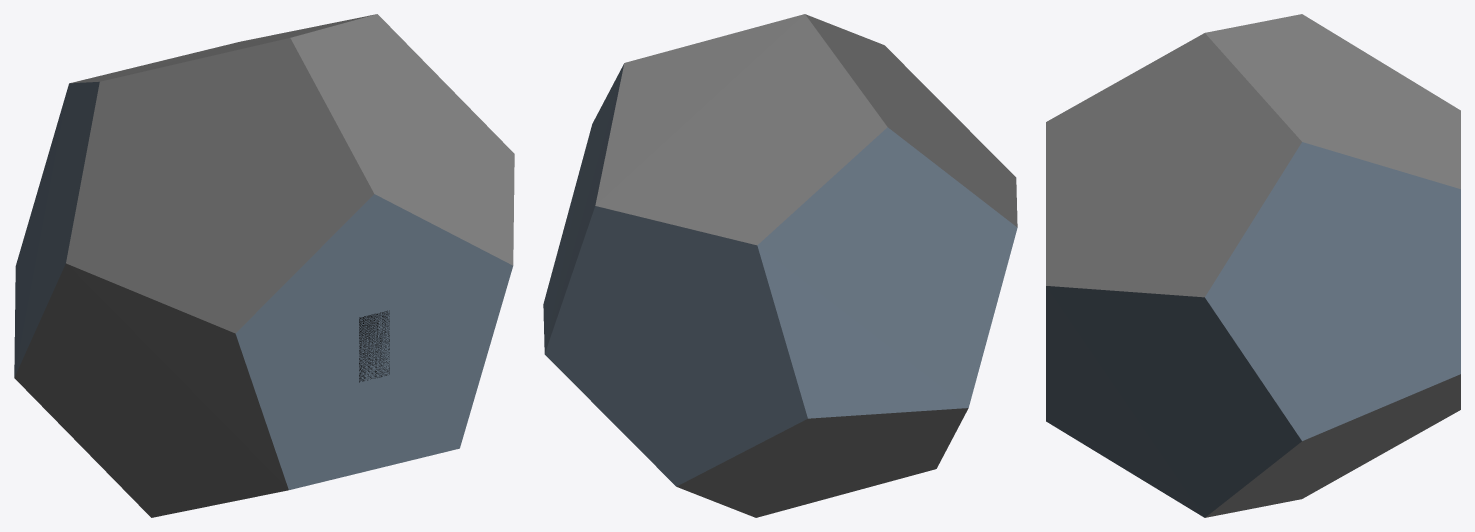
The model's file is dodecstation.obj.
3 renders of one model, left to right at view 1: azimuth 30°, elevation 25°; view 2: azimuth 150°, elevation 25°; view 3: azimuth 270°, elevation 25°, orthographic. The views are drawn at different scales.
Bounding box in the file's own units: 462 × 486 × 392.
